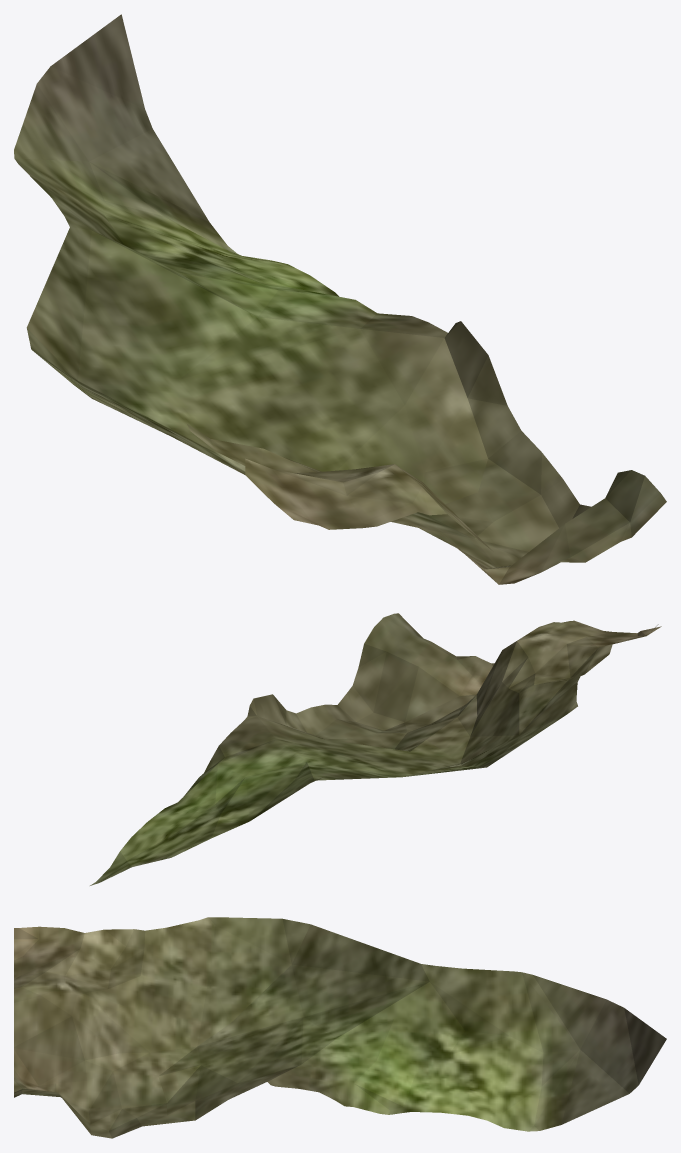
3 renders of one model, top to bottom at view 1: azimuth 30°, elevation 25°; view 2: azimuth 150°, elevation 25°; view 3: azimuth 270°, elevation 25°, orthographic. The views are drawn at different scales.
Size of the model in its own units: 1.28 by 0.5359 by 2.9.
Materials: 1 (1 with a texture image).
